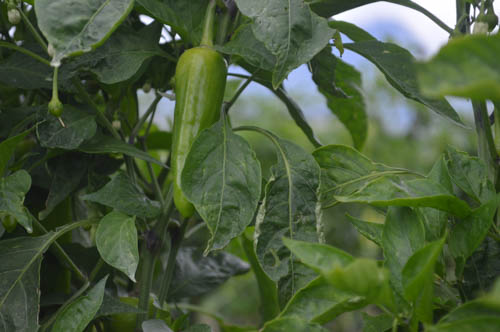ChiliPepper: (173, 47, 228, 221)
